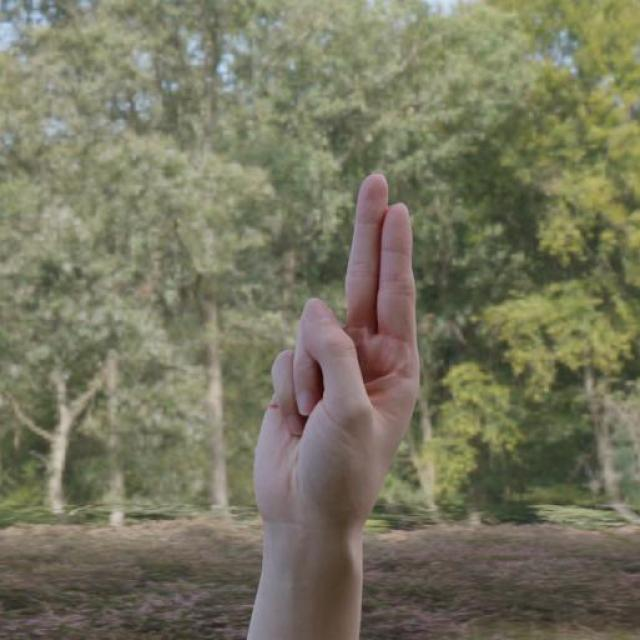U: (248, 164, 436, 528)
